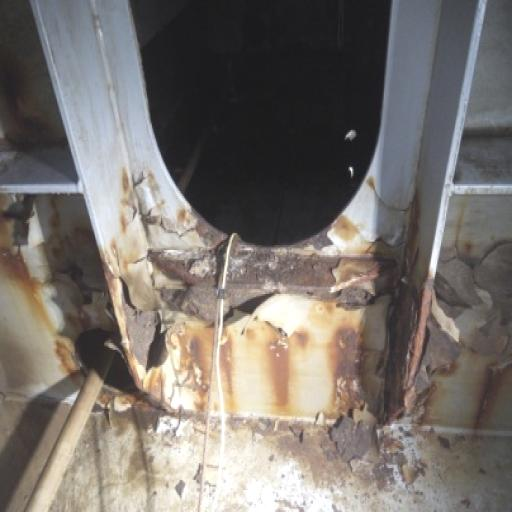Detect-rust-on-metal-surfaces: (0, 150, 511, 510)
